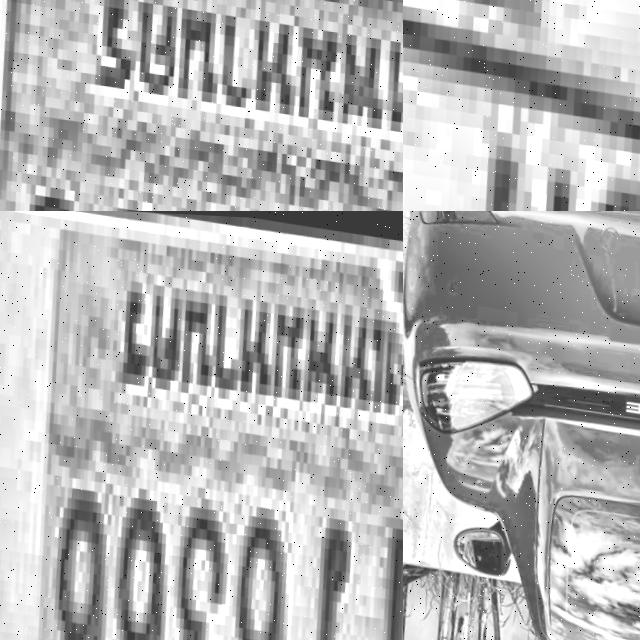license-plate: (0, 211, 403, 640), (0, 0, 403, 211), (403, 0, 640, 211)
